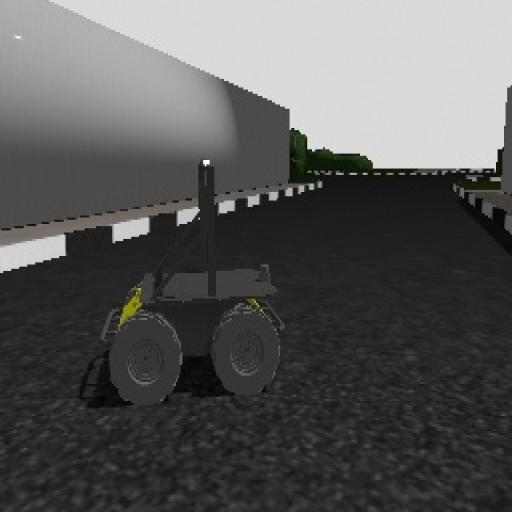huskya200: (67, 142, 306, 412)
